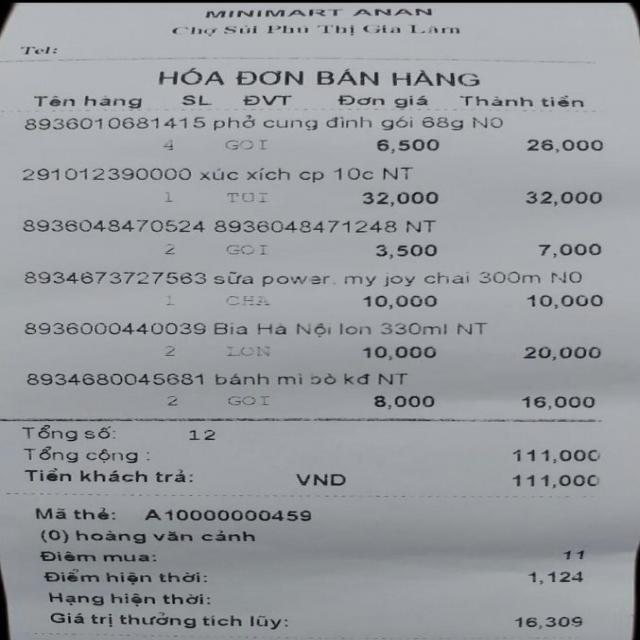Store_Name: (160, 0, 454, 24)
Total_Amount: (5, 446, 617, 470)
